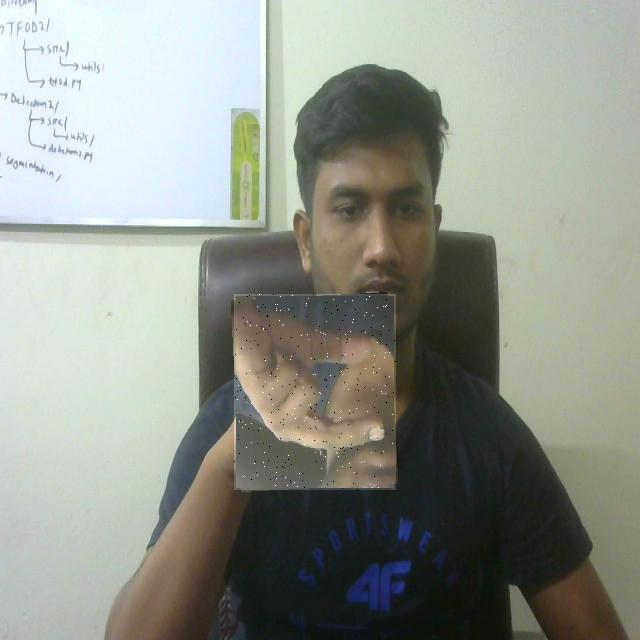No: (234, 294, 396, 490)
